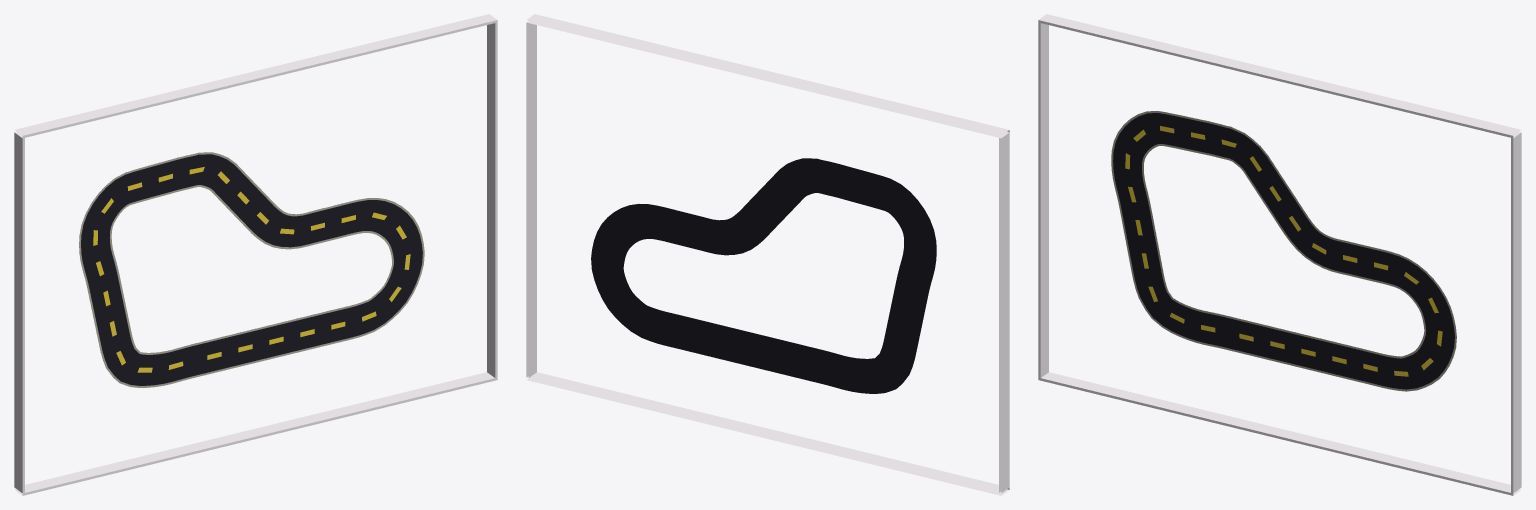
File: track.obj
The picture shows the model from 3 angles, left to right: view 1: azimuth 30°, elevation 25°; view 2: azimuth 150°, elevation 25°; view 3: azimuth 330°, elevation 25°; orthographic projection.
Bounding box in the file's own units: 9.98 × 7.23 × 0.3.
